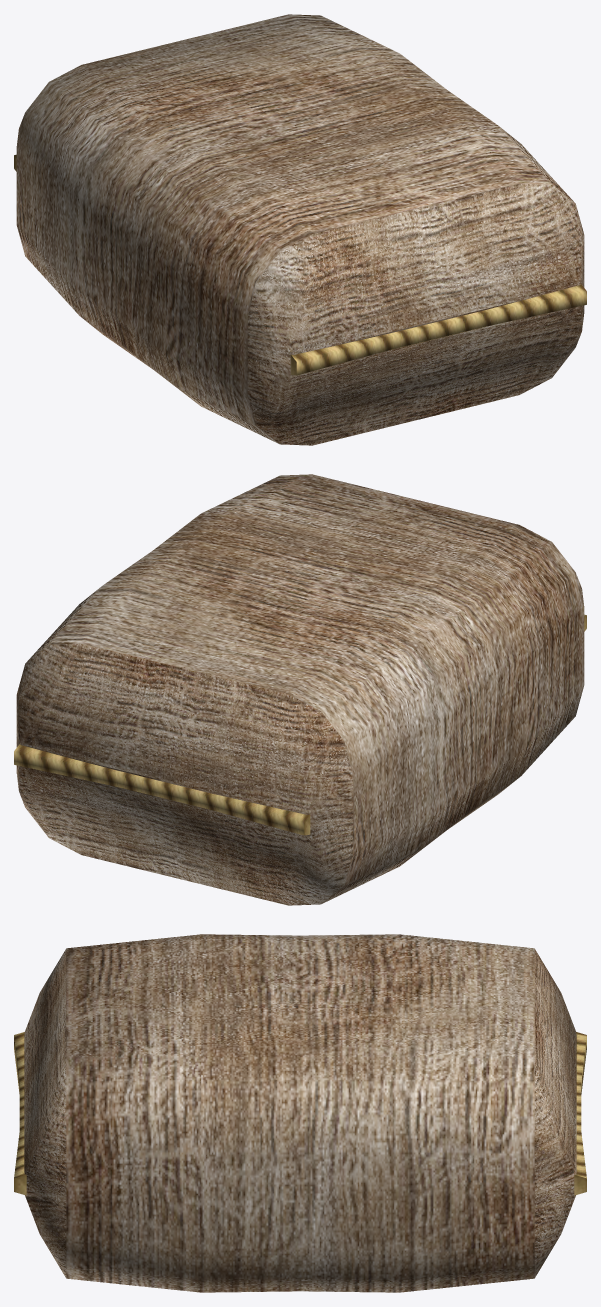
The model's file is bag-02.fbx.
3 views of the same model, one above another, from view 1: azimuth 30°, elevation 25°; view 2: azimuth 150°, elevation 25°; view 3: azimuth 270°, elevation 25° (orthographic).
Parts seen in each view (by area): view 1: Cube.243; view 2: Cube.243; view 3: Cube.243.
Boxes of the visible parts, left/top/right/bottom form: Cube.243: left=14, top=14, right=586, bottom=445; Cube.243: left=14, top=474, right=586, bottom=905; Cube.243: left=14, top=934, right=586, bottom=1292.
Size of the model in its own units: 0.6679 by 0.4008 by 0.9049.
